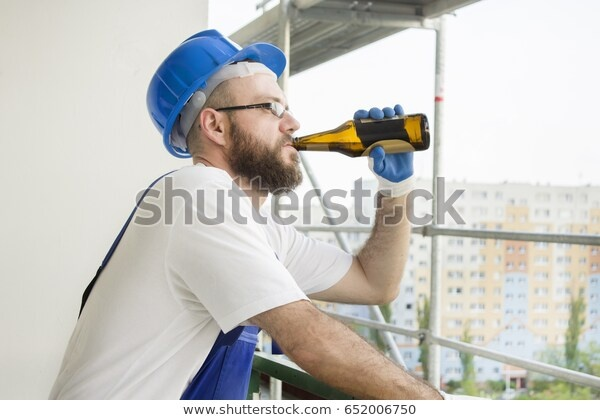beerBottle: (293, 114, 433, 157)
